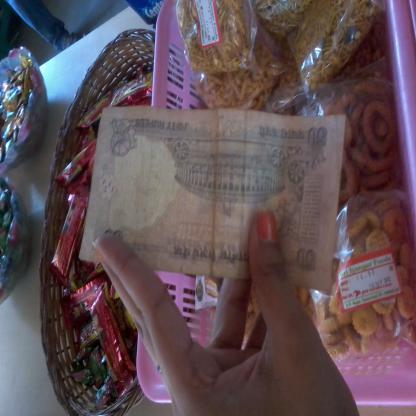Old50Back: (78, 108, 346, 290)
